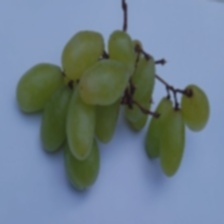grapes: (4, 57, 179, 206)
